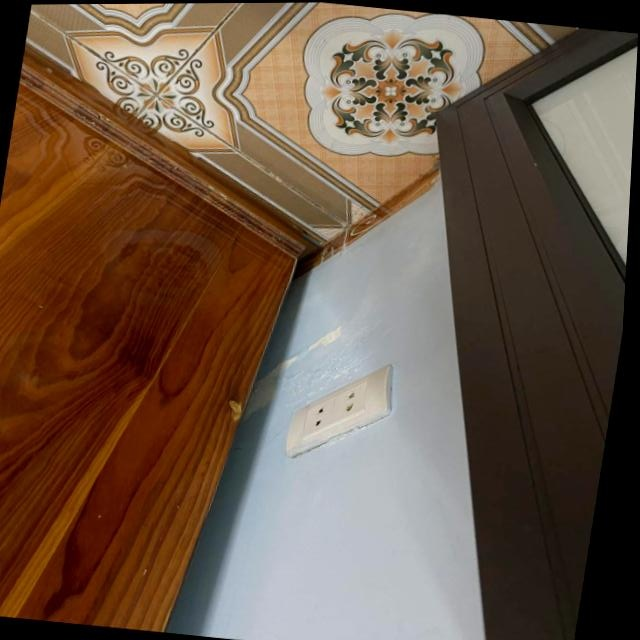outlet: (284, 353, 400, 468)
